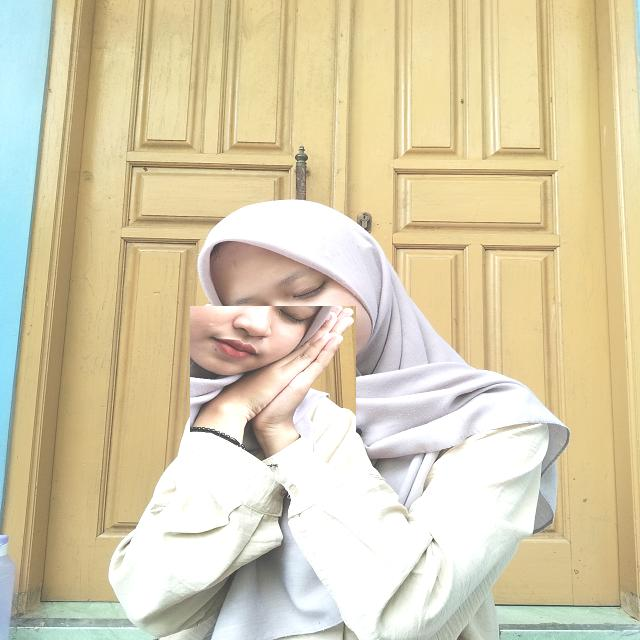tidur: (190, 306, 356, 475)
